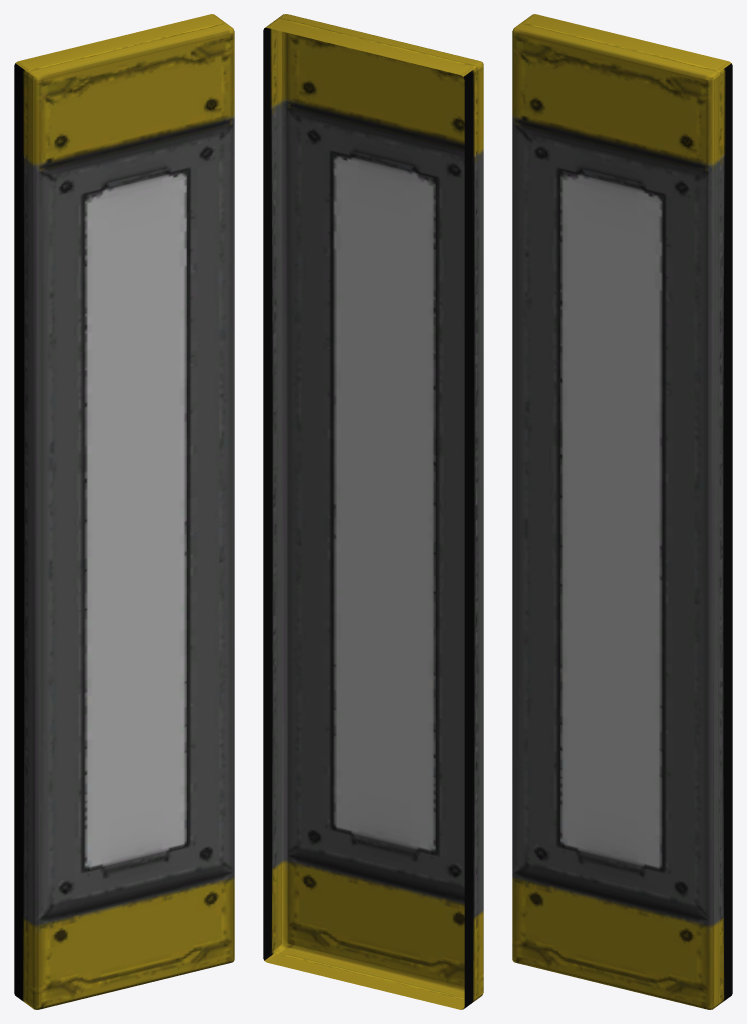
Rendered from beam01.dae.
3 views of the same model, side by side, from view 1: azimuth 30°, elevation 25°; view 2: azimuth 150°, elevation 25°; view 3: azimuth 330°, elevation 25° (orthographic).
Parts seen in each view (by area): view 1: pPlane54; view 2: pPlane54; view 3: pPlane54.
Part boxes in pixels (bbox=[...]): pPlane54: bbox=[14, 14, 234, 1009]; pPlane54: bbox=[263, 14, 483, 1009]; pPlane54: bbox=[512, 14, 732, 1009].
Bounding box in the file's own units: 1.02 × 4.52 × 0.184.
Materials: 1 (1 with a texture image).
